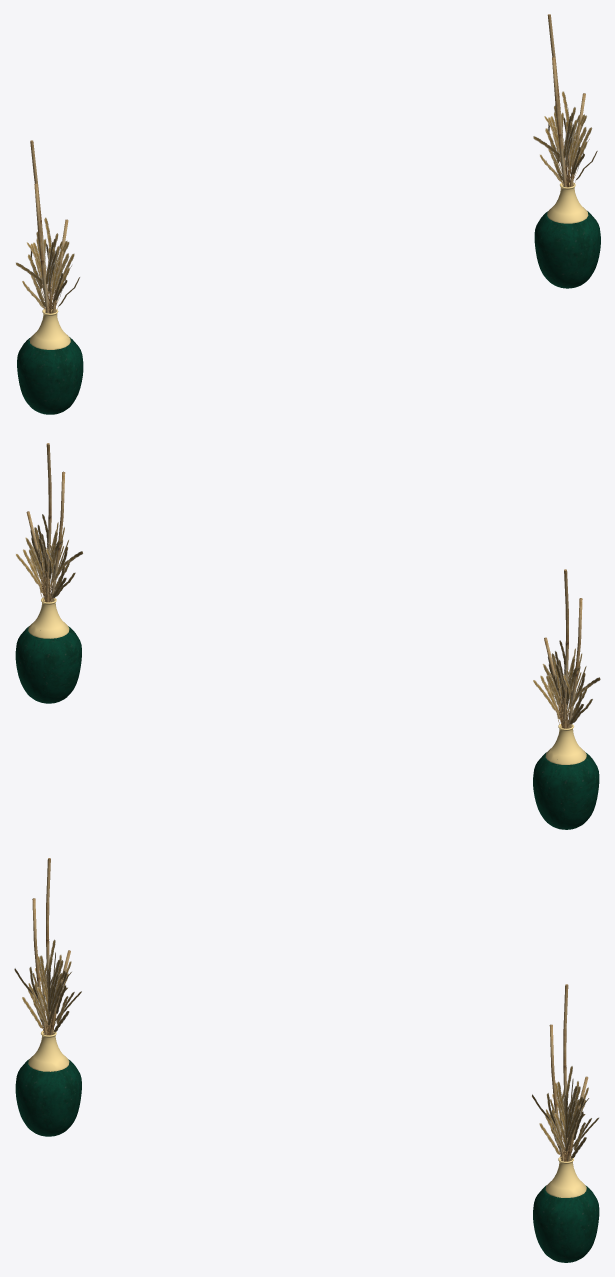
The model's file is vase_mod3.glb.
3 views of the same model, one above another, from view 1: azimuth 30°, elevation 25°; view 2: azimuth 150°, elevation 25°; view 3: azimuth 330°, elevation 25° (orthographic).
Visible parts, largest first — view 1: Vase2; view 2: Vase2; view 3: Vase2.
Part boxes in pixels (bbox=[...]): Vase2: bbox=[15, 14, 600, 414]; Vase2: bbox=[15, 443, 600, 829]; Vase2: bbox=[14, 858, 599, 1262].
Size of the model in its own units: 3.27 by 1.43 by 0.3288.
Materials: 4 (4 with a texture image).
